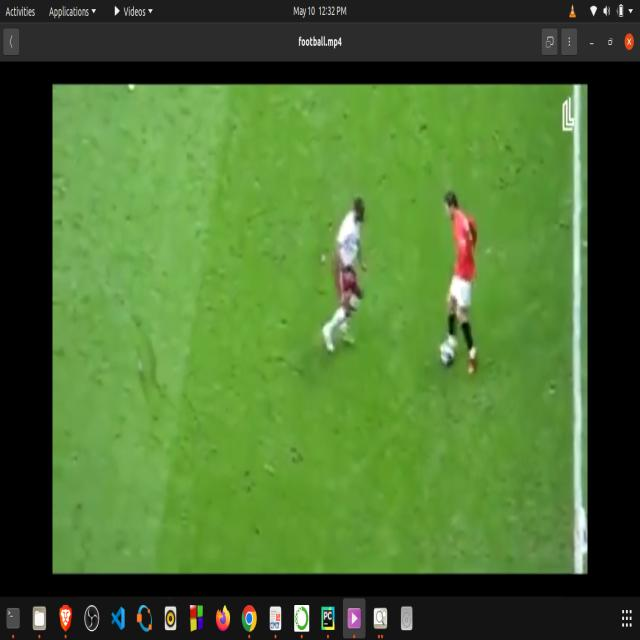Ball: (436, 335, 457, 374)
football-players: (437, 181, 489, 408), (320, 179, 378, 376)
